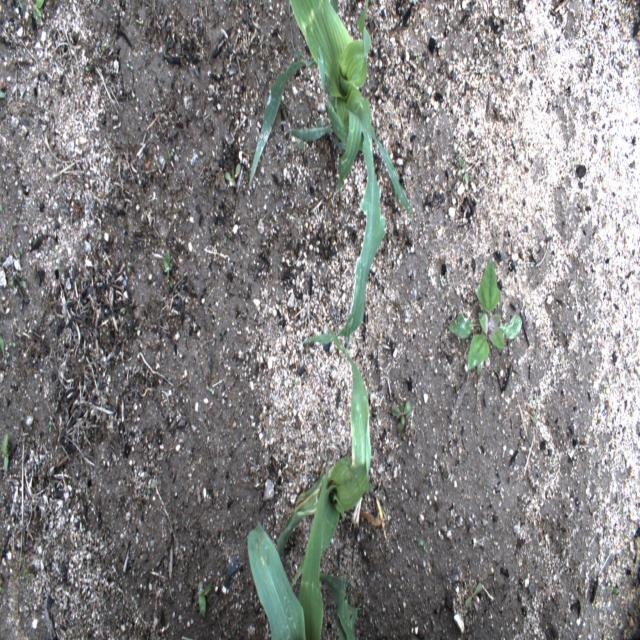crop: (248, 0, 412, 363), (276, 321, 374, 590), (247, 452, 332, 640), (315, 573, 357, 639)
weed: (448, 257, 522, 375), (9, 553, 31, 605), (391, 400, 411, 438), (198, 581, 212, 620), (465, 580, 482, 608), (224, 164, 241, 186), (459, 156, 469, 187), (0, 334, 11, 361), (604, 139, 613, 168), (31, 0, 44, 20), (162, 252, 170, 280), (2, 434, 8, 471), (528, 404, 538, 426), (604, 584, 620, 594), (18, 0, 27, 15), (10, 270, 18, 286), (16, 246, 24, 258), (419, 538, 426, 551), (19, 280, 26, 289), (417, 52, 423, 62), (48, 420, 52, 433), (9, 341, 16, 347), (0, 90, 5, 97), (409, 0, 416, 5), (54, 246, 57, 257), (603, 382, 605, 394), (0, 587, 4, 592), (0, 203, 2, 212)
